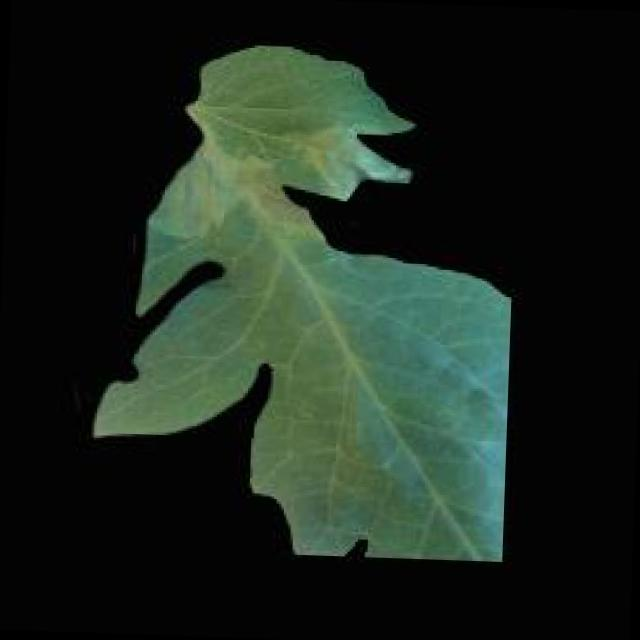Tomato_Late_Blight: (156, 110, 359, 250)
